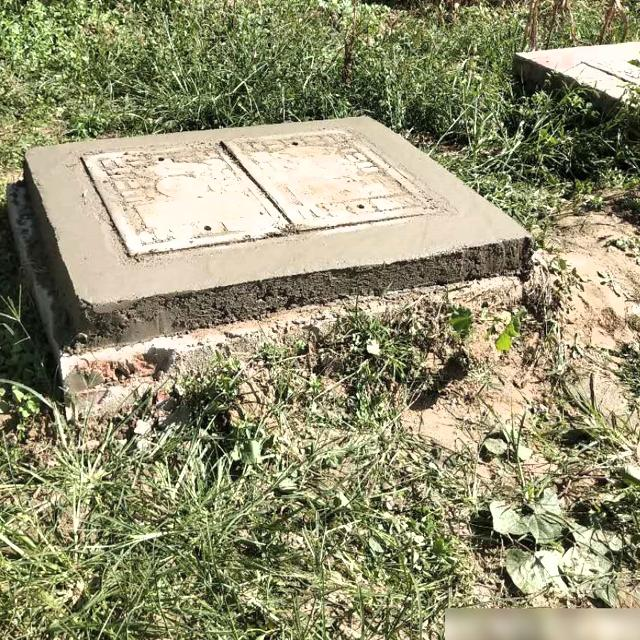good: (75, 102, 448, 266)
